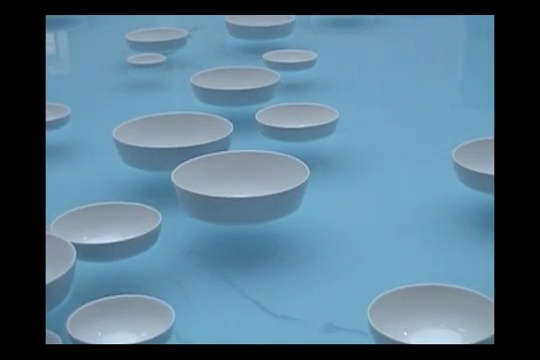bowl: (172, 152, 311, 222), (369, 285, 494, 344), (114, 112, 236, 171), (53, 203, 161, 260), (68, 296, 175, 344), (191, 66, 280, 103), (256, 104, 338, 140), (453, 138, 494, 192), (224, 15, 295, 41), (125, 28, 186, 55), (264, 50, 319, 70), (127, 54, 167, 65)
